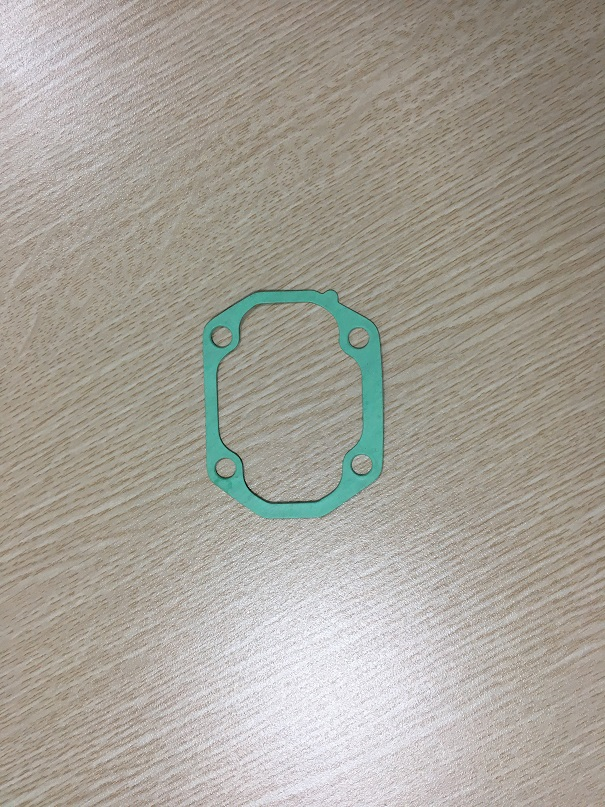type2: (193, 285, 399, 532)
